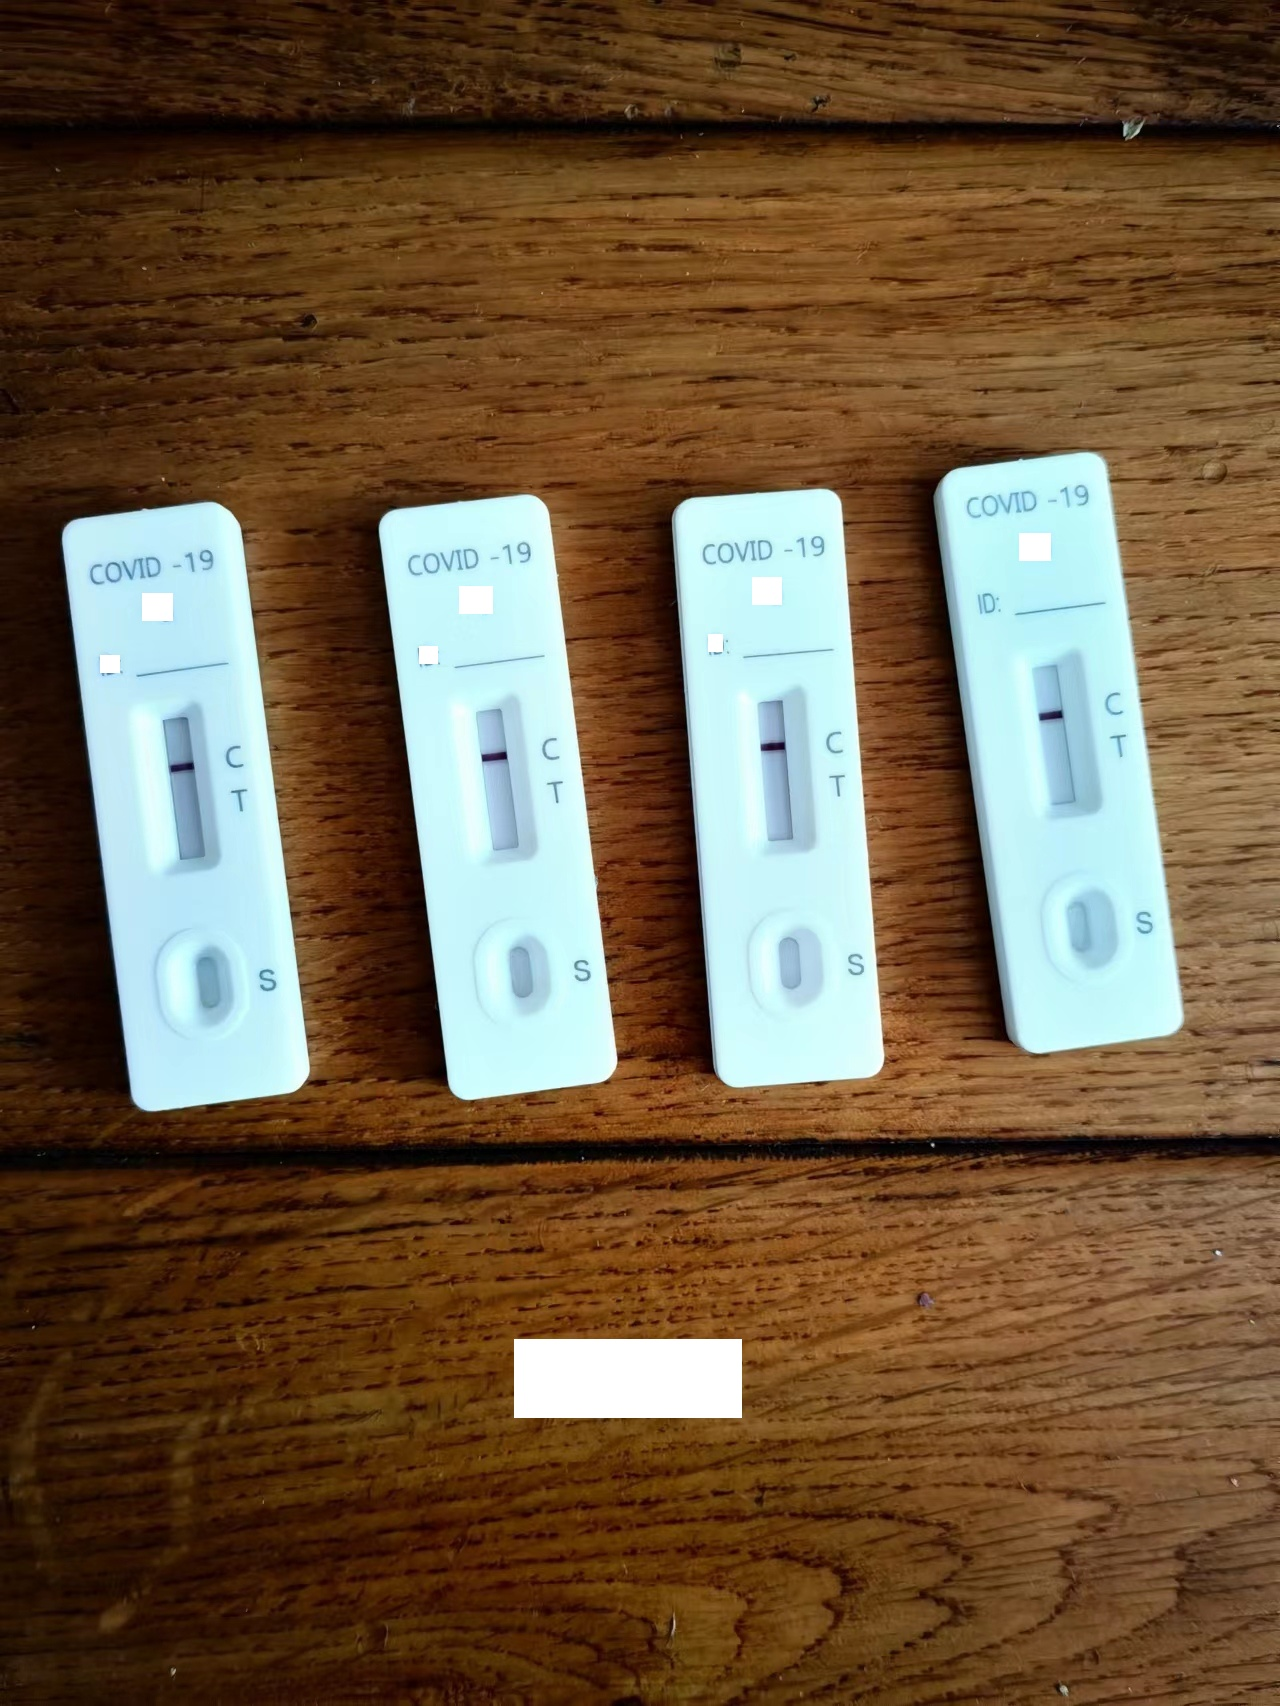negative: (140, 703, 219, 877), (463, 690, 536, 870), (1025, 649, 1098, 821), (748, 687, 817, 858)
